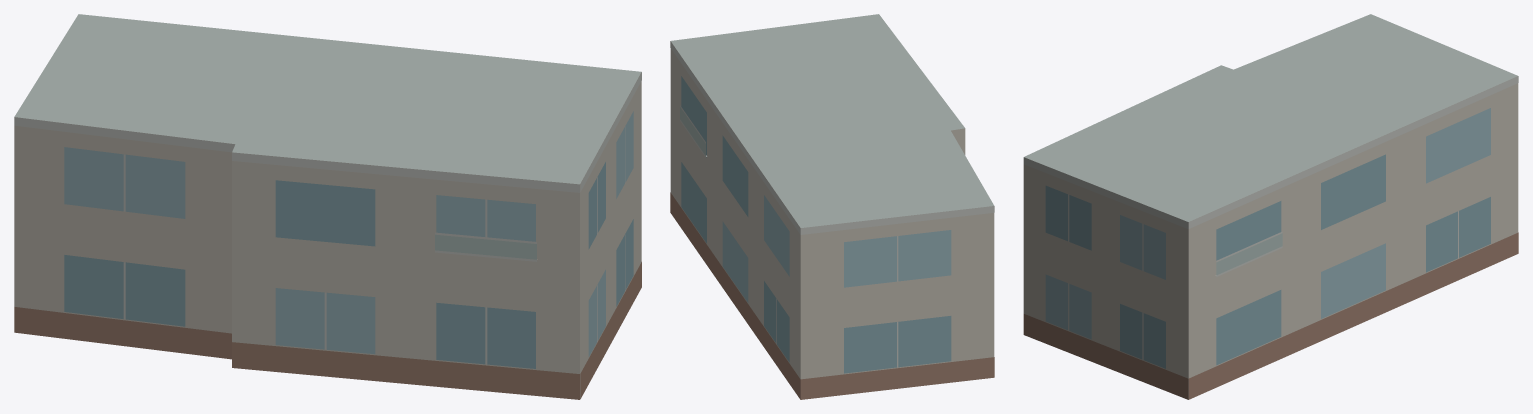
Rendered from survey-upis-32550605.glb.
3 views of the same model, side by side, from view 1: azimuth 30°, elevation 25°; view 2: azimuth 150°, elevation 25°; view 3: azimuth 270°, elevation 25° (orthographic). The views are drawn at different scales.
Parts seen in each view (by area): view 1: survey-upis-32550605.tmp; view 2: survey-upis-32550605.tmp; view 3: survey-upis-32550605.tmp.
Part boxes in pixels (x1=…): survey-upis-32550605.tmp: x1=14, y1=14, x2=641, y2=399; survey-upis-32550605.tmp: x1=670, y1=14, x2=994, y2=399; survey-upis-32550605.tmp: x1=1023, y1=14, x2=1518, y2=399.
Size of the model in its own units: 15.32 by 6.1 by 15.39.
